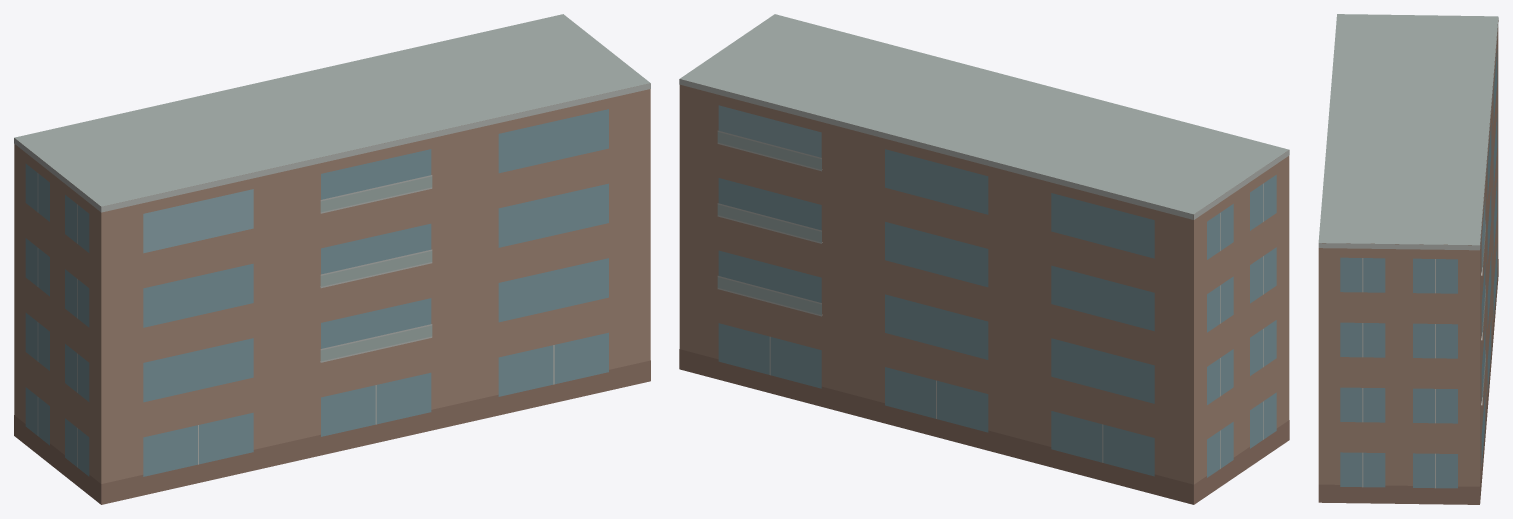
Rendered from survey-upis-32836684.glb.
3 renders of one model, left to right at view 1: azimuth 30°, elevation 25°; view 2: azimuth 150°, elevation 25°; view 3: azimuth 270°, elevation 25°, orthographic. The views are drawn at different scales.
Parts seen in each view (by area): view 1: survey-upis-32836684.tmp; view 2: survey-upis-32836684.tmp; view 3: survey-upis-32836684.tmp.
Boxes of the visible parts, x1,y1,x2,y2 form: survey-upis-32836684.tmp: (14, 14, 650, 504); survey-upis-32836684.tmp: (679, 14, 1289, 504); survey-upis-32836684.tmp: (1318, 14, 1498, 504).
Bounding box in the file's own units: 23.88 × 12.5 × 7.86.
